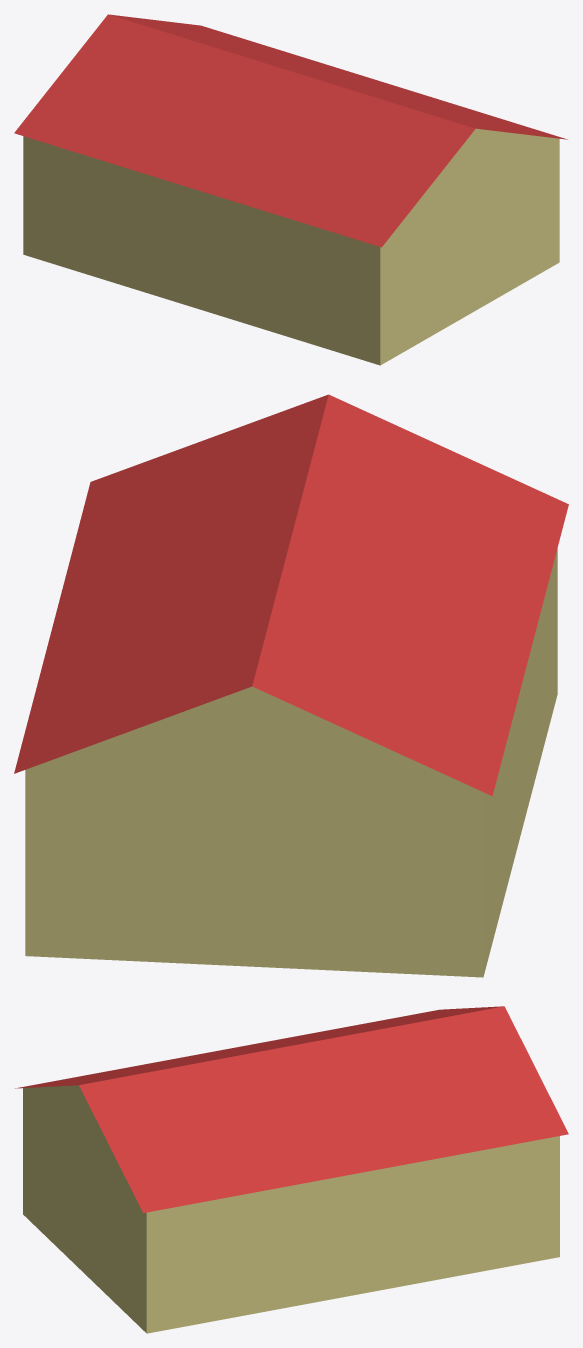
3 views of the same model, one above another, from view 1: azimuth 30°, elevation 25°; view 2: azimuth 150°, elevation 25°; view 3: azimuth 270°, elevation 25° (orthographic). The views are drawn at different scales.
Size of the model in its own units: 35.13 by 40.48 by 15.32.
